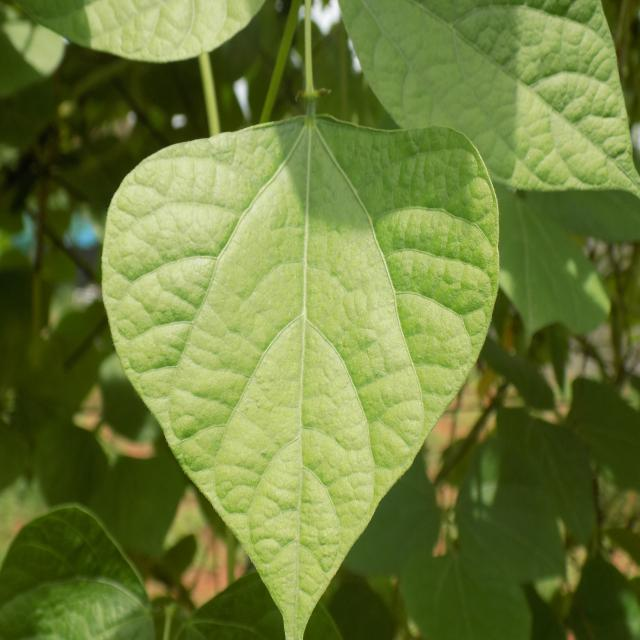Dolicos bean_healthy: (96, 111, 501, 640)
